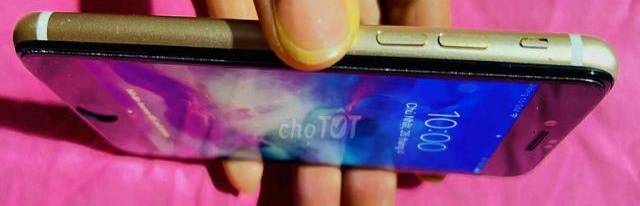scratch: (341, 58, 607, 88), (20, 48, 231, 66), (512, 24, 552, 46), (437, 27, 451, 43), (370, 25, 388, 36)
